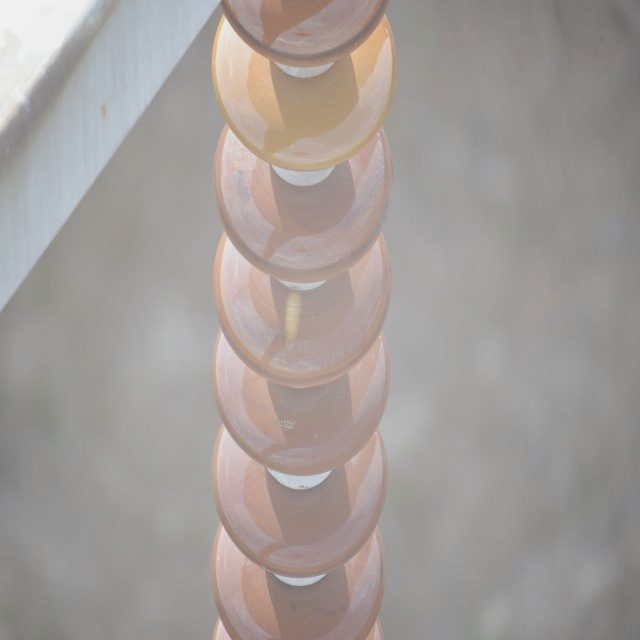insulator: (210, 2, 397, 640)
